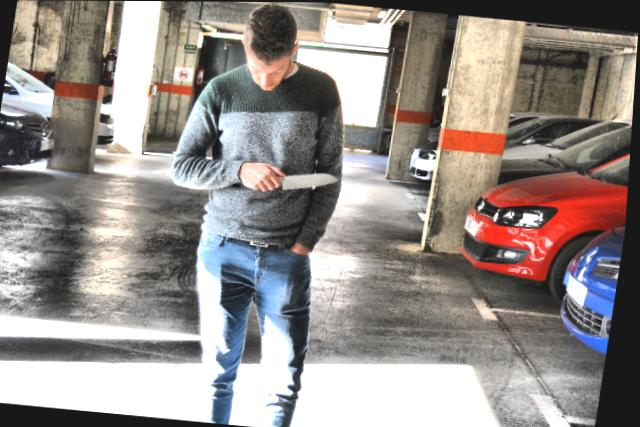knife: (273, 163, 346, 197)
